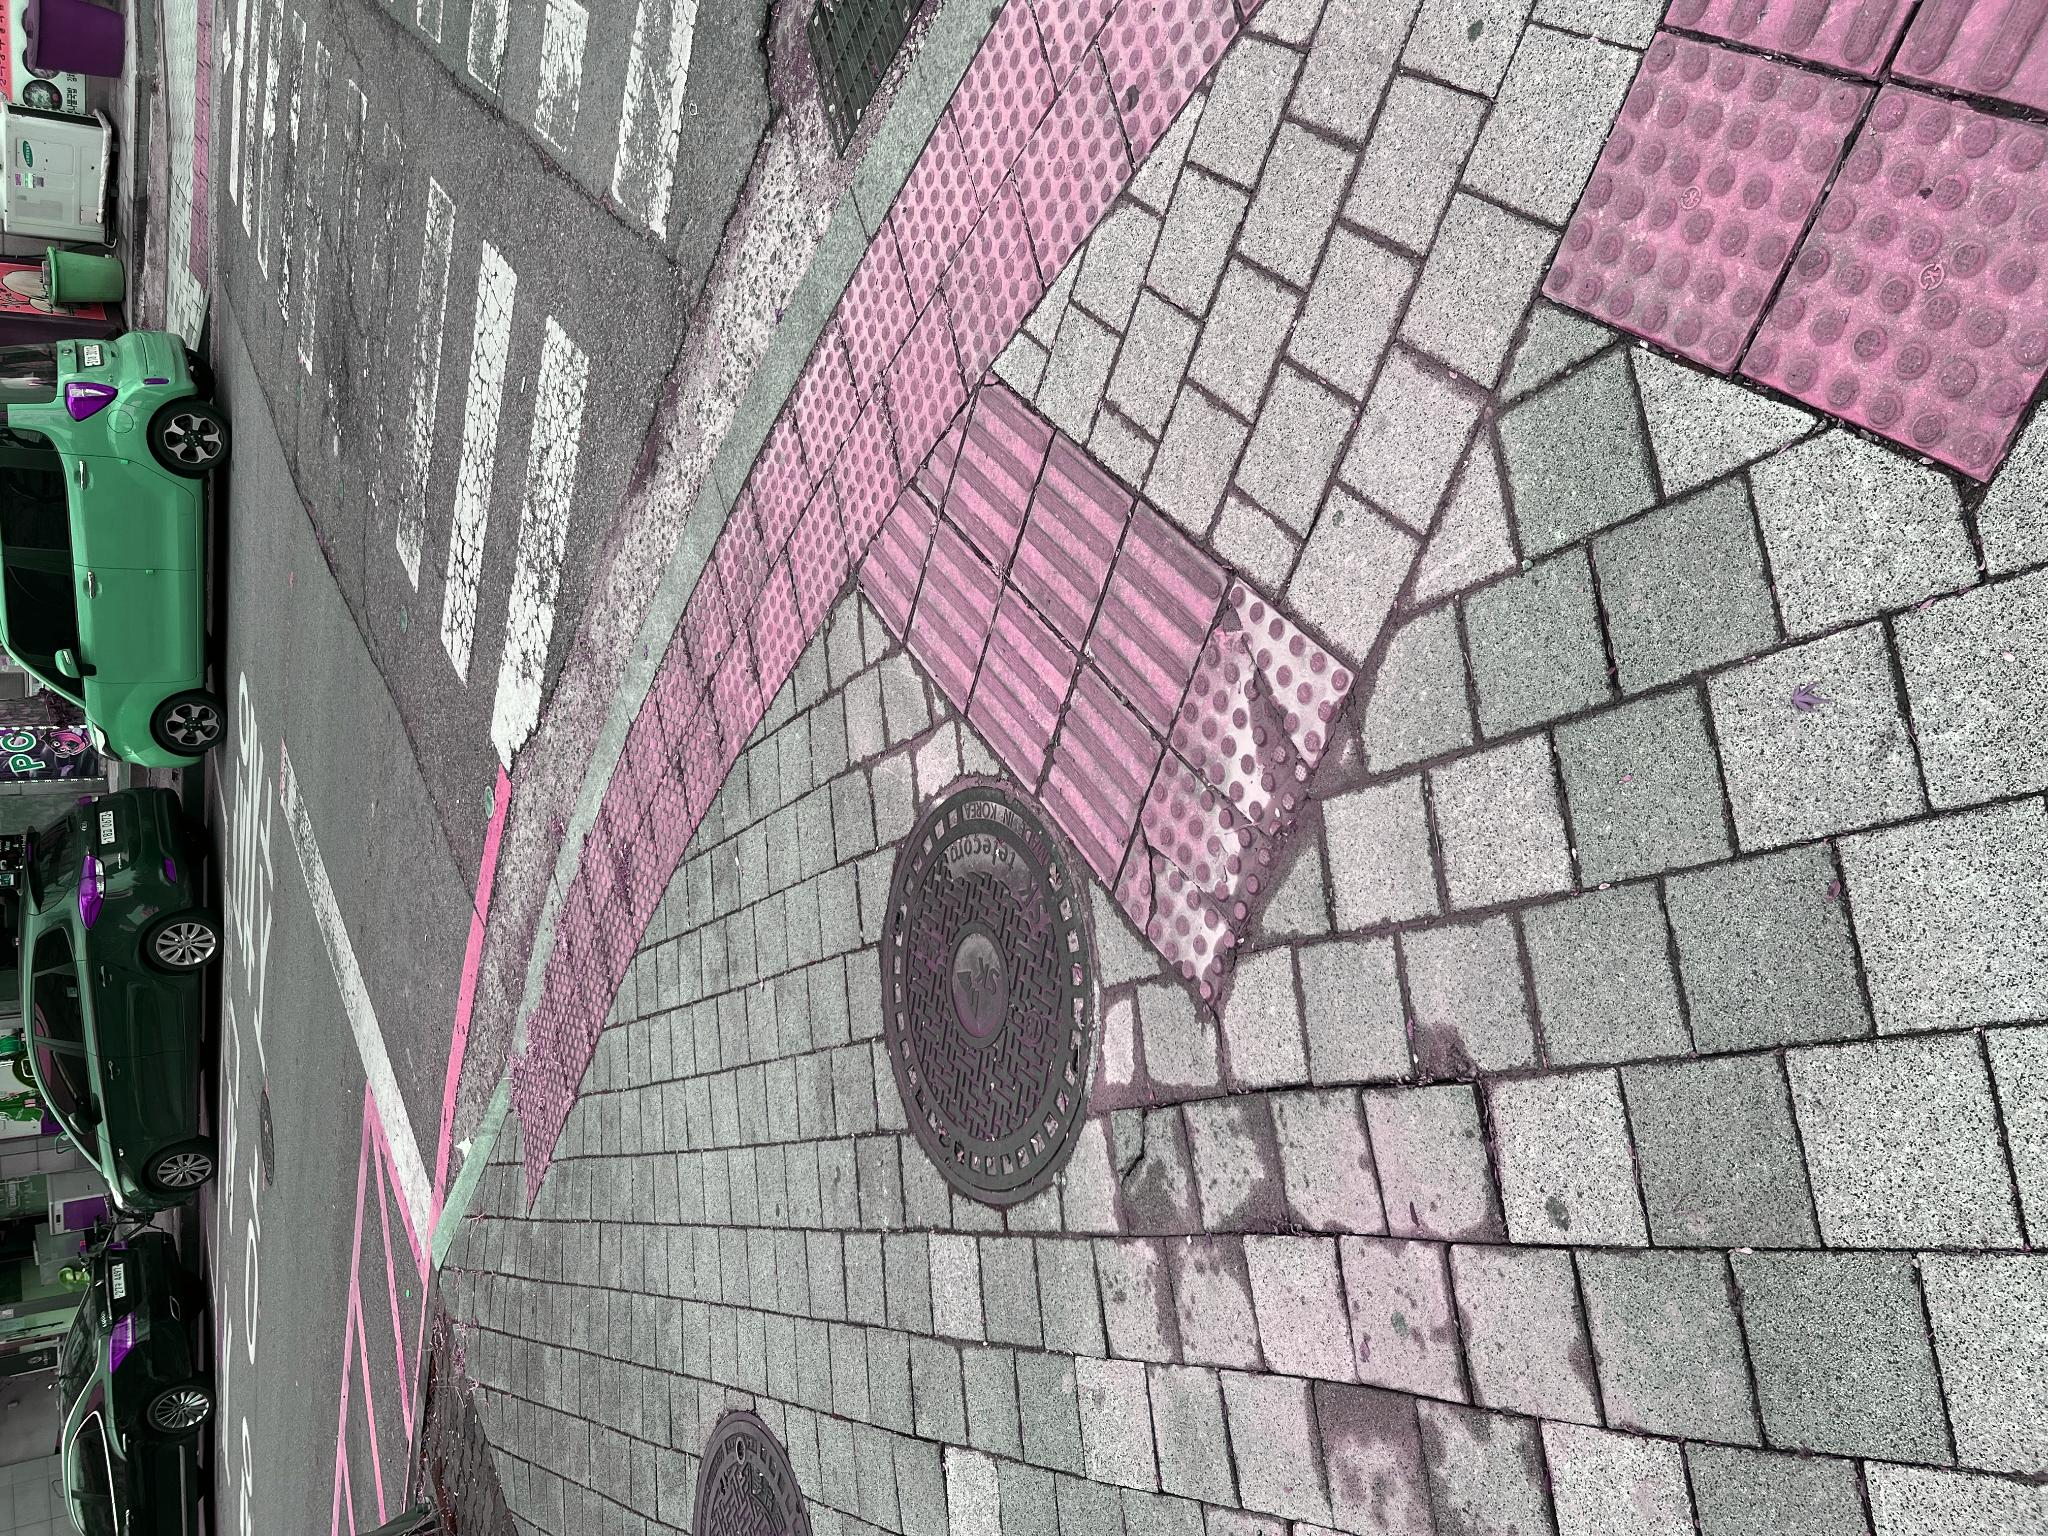Stop block broken: (693, 1168, 955, 1354), (527, 1115, 785, 1278)
Stop block normal: (1251, 1013, 1490, 1131), (1143, 942, 1363, 1039), (1051, 883, 1247, 965), (969, 831, 1151, 900), (895, 787, 1064, 850)
Straight block normal: (803, 1086, 1032, 1228), (648, 1039, 871, 1160), (887, 1010, 1101, 1134), (742, 966, 948, 1076), (824, 907, 1014, 1002)
